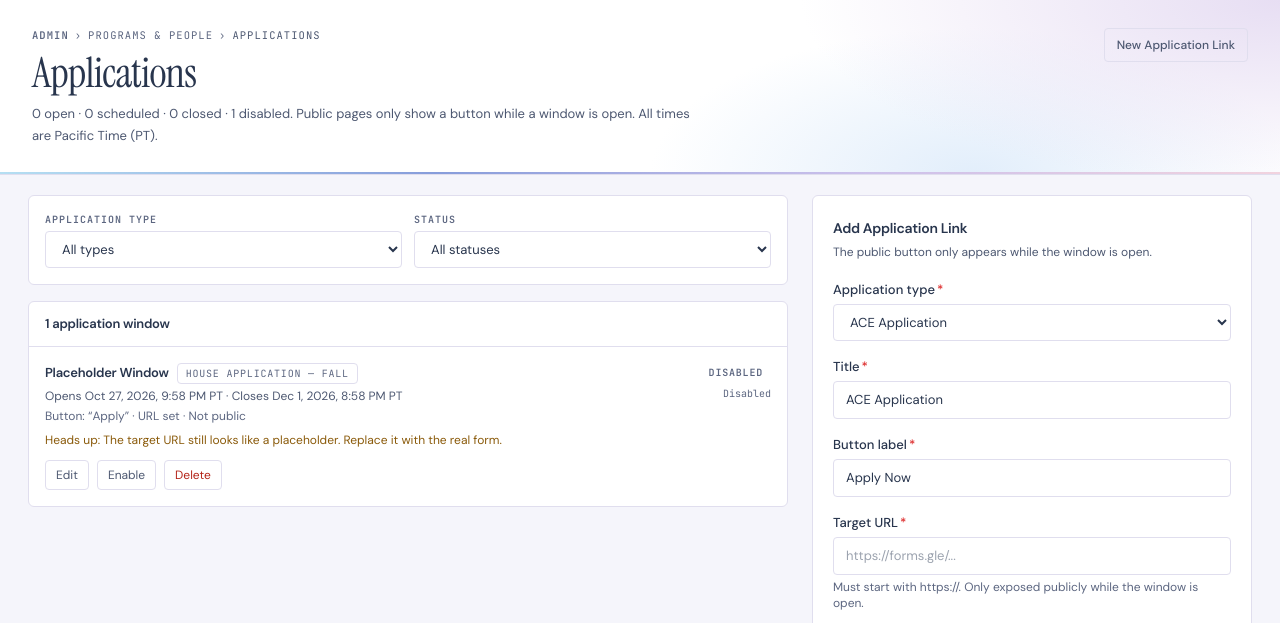
Test: publishing needs an explicit yes › warns in the confirmation when the link is still the seeded placeholder
The image size is (1280, 623).
Click the button "Edit". click: (67, 475)
box: [45, 460, 89, 490]
(page scrolled)
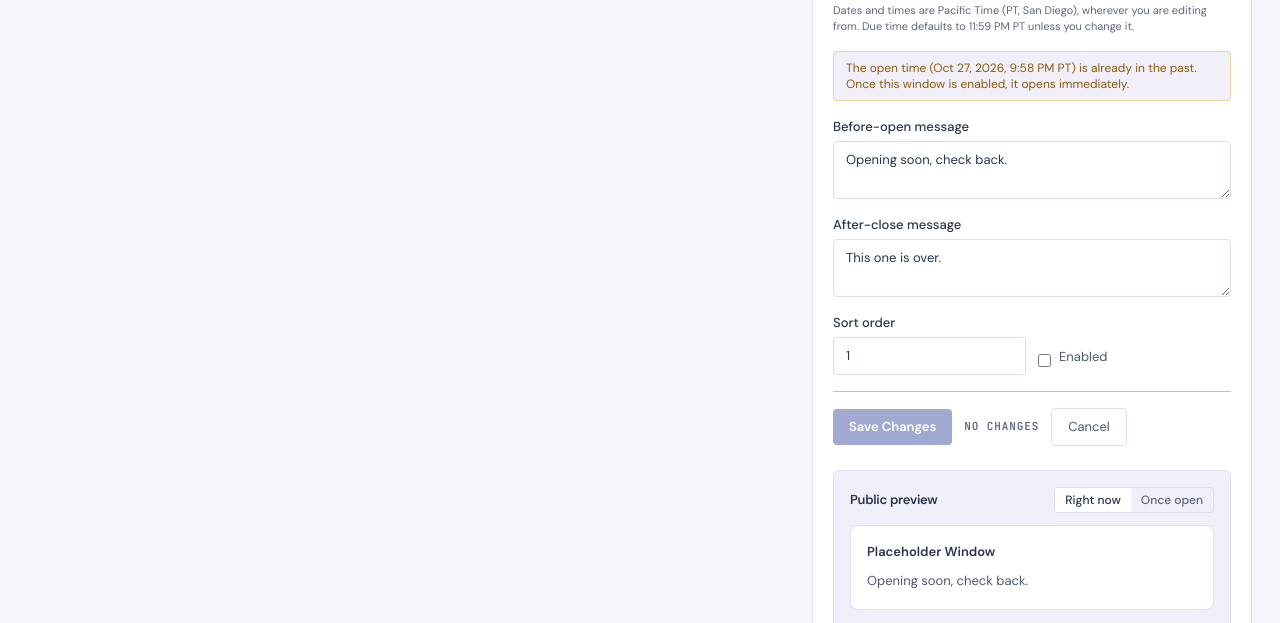
Click the checkbox labelled "Enabled". click: (1044, 360)
box: [1038, 354, 1051, 367]
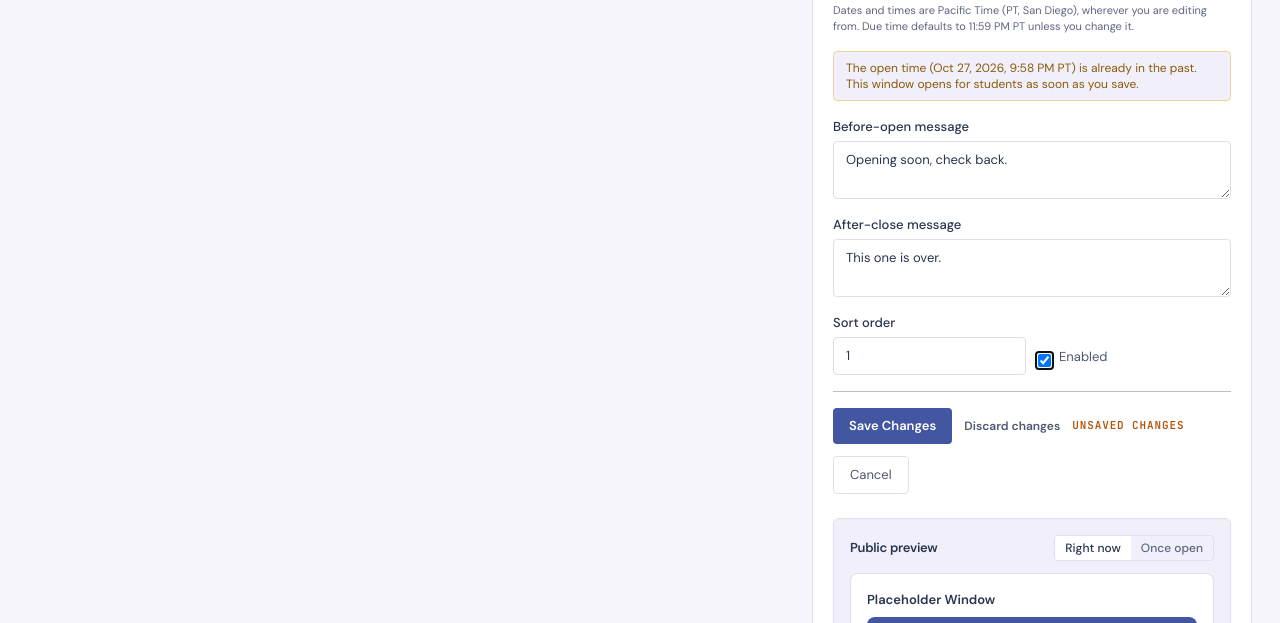
Click the button "Save Changes". click: (893, 426)
box: [833, 408, 952, 444]
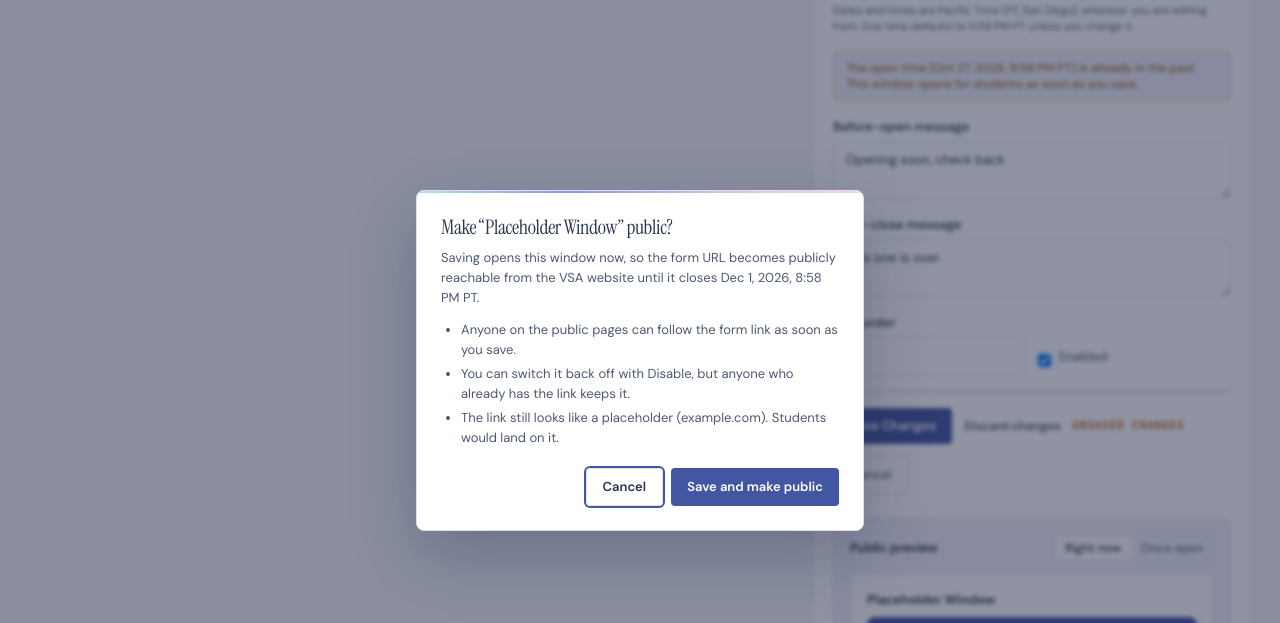
Expected: the dialog shows "still looks like a placeholder", [461, 408, 826, 446]
